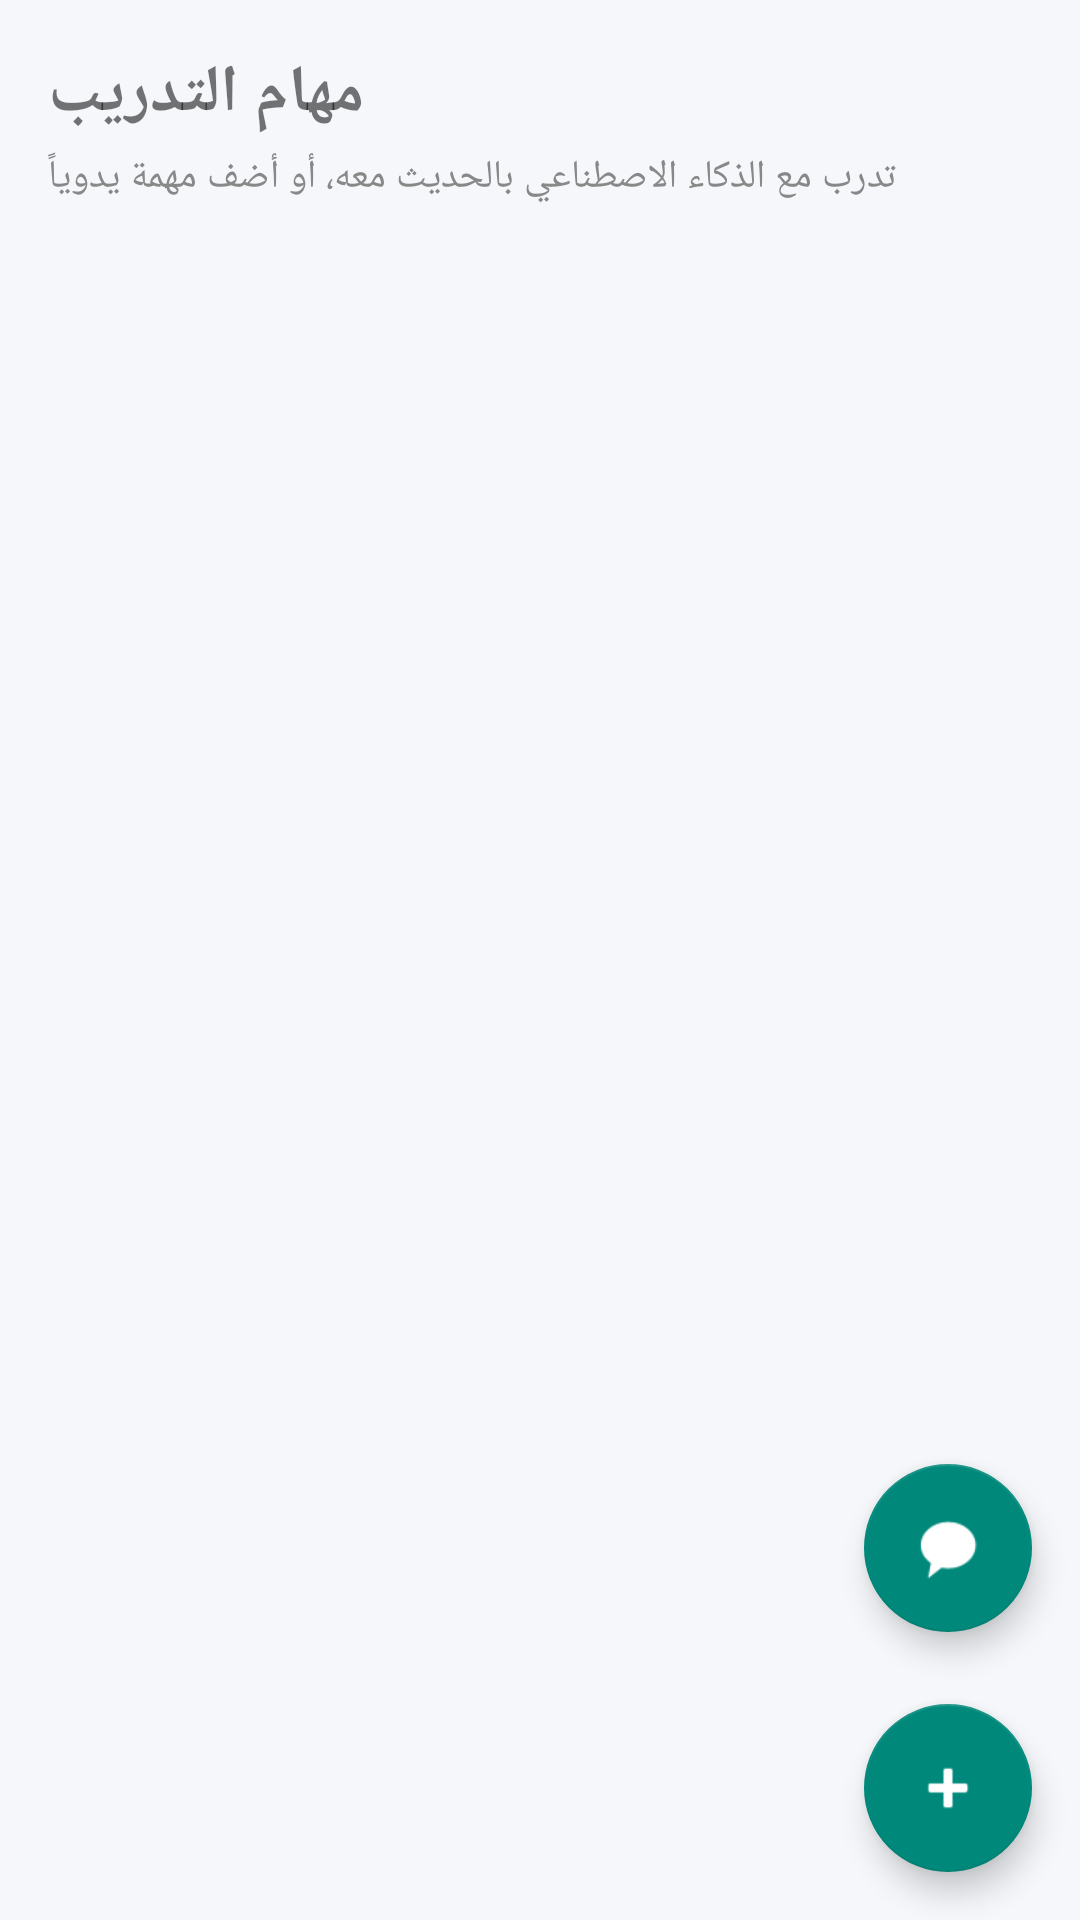

Icon click points for this 1080 x 1920 phone screenshot, format point (x, y):
إضافة مهمة: point (948, 1788)
محادثة تدريب: point (948, 1548)
